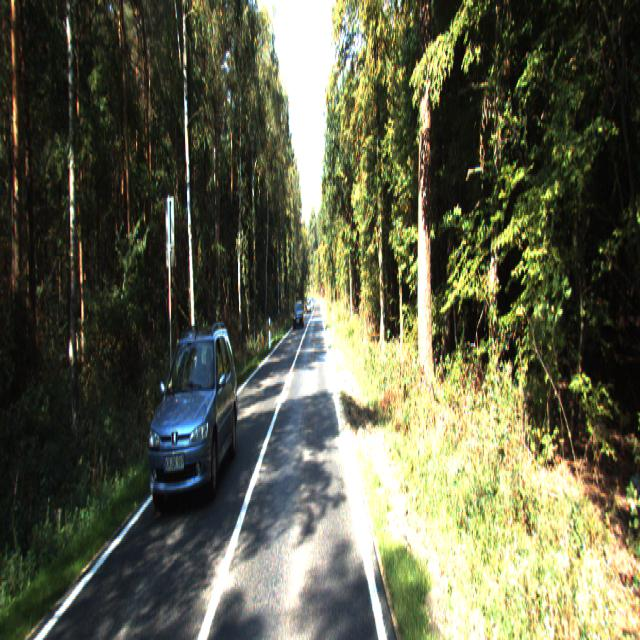Car: (146, 318, 244, 516)
